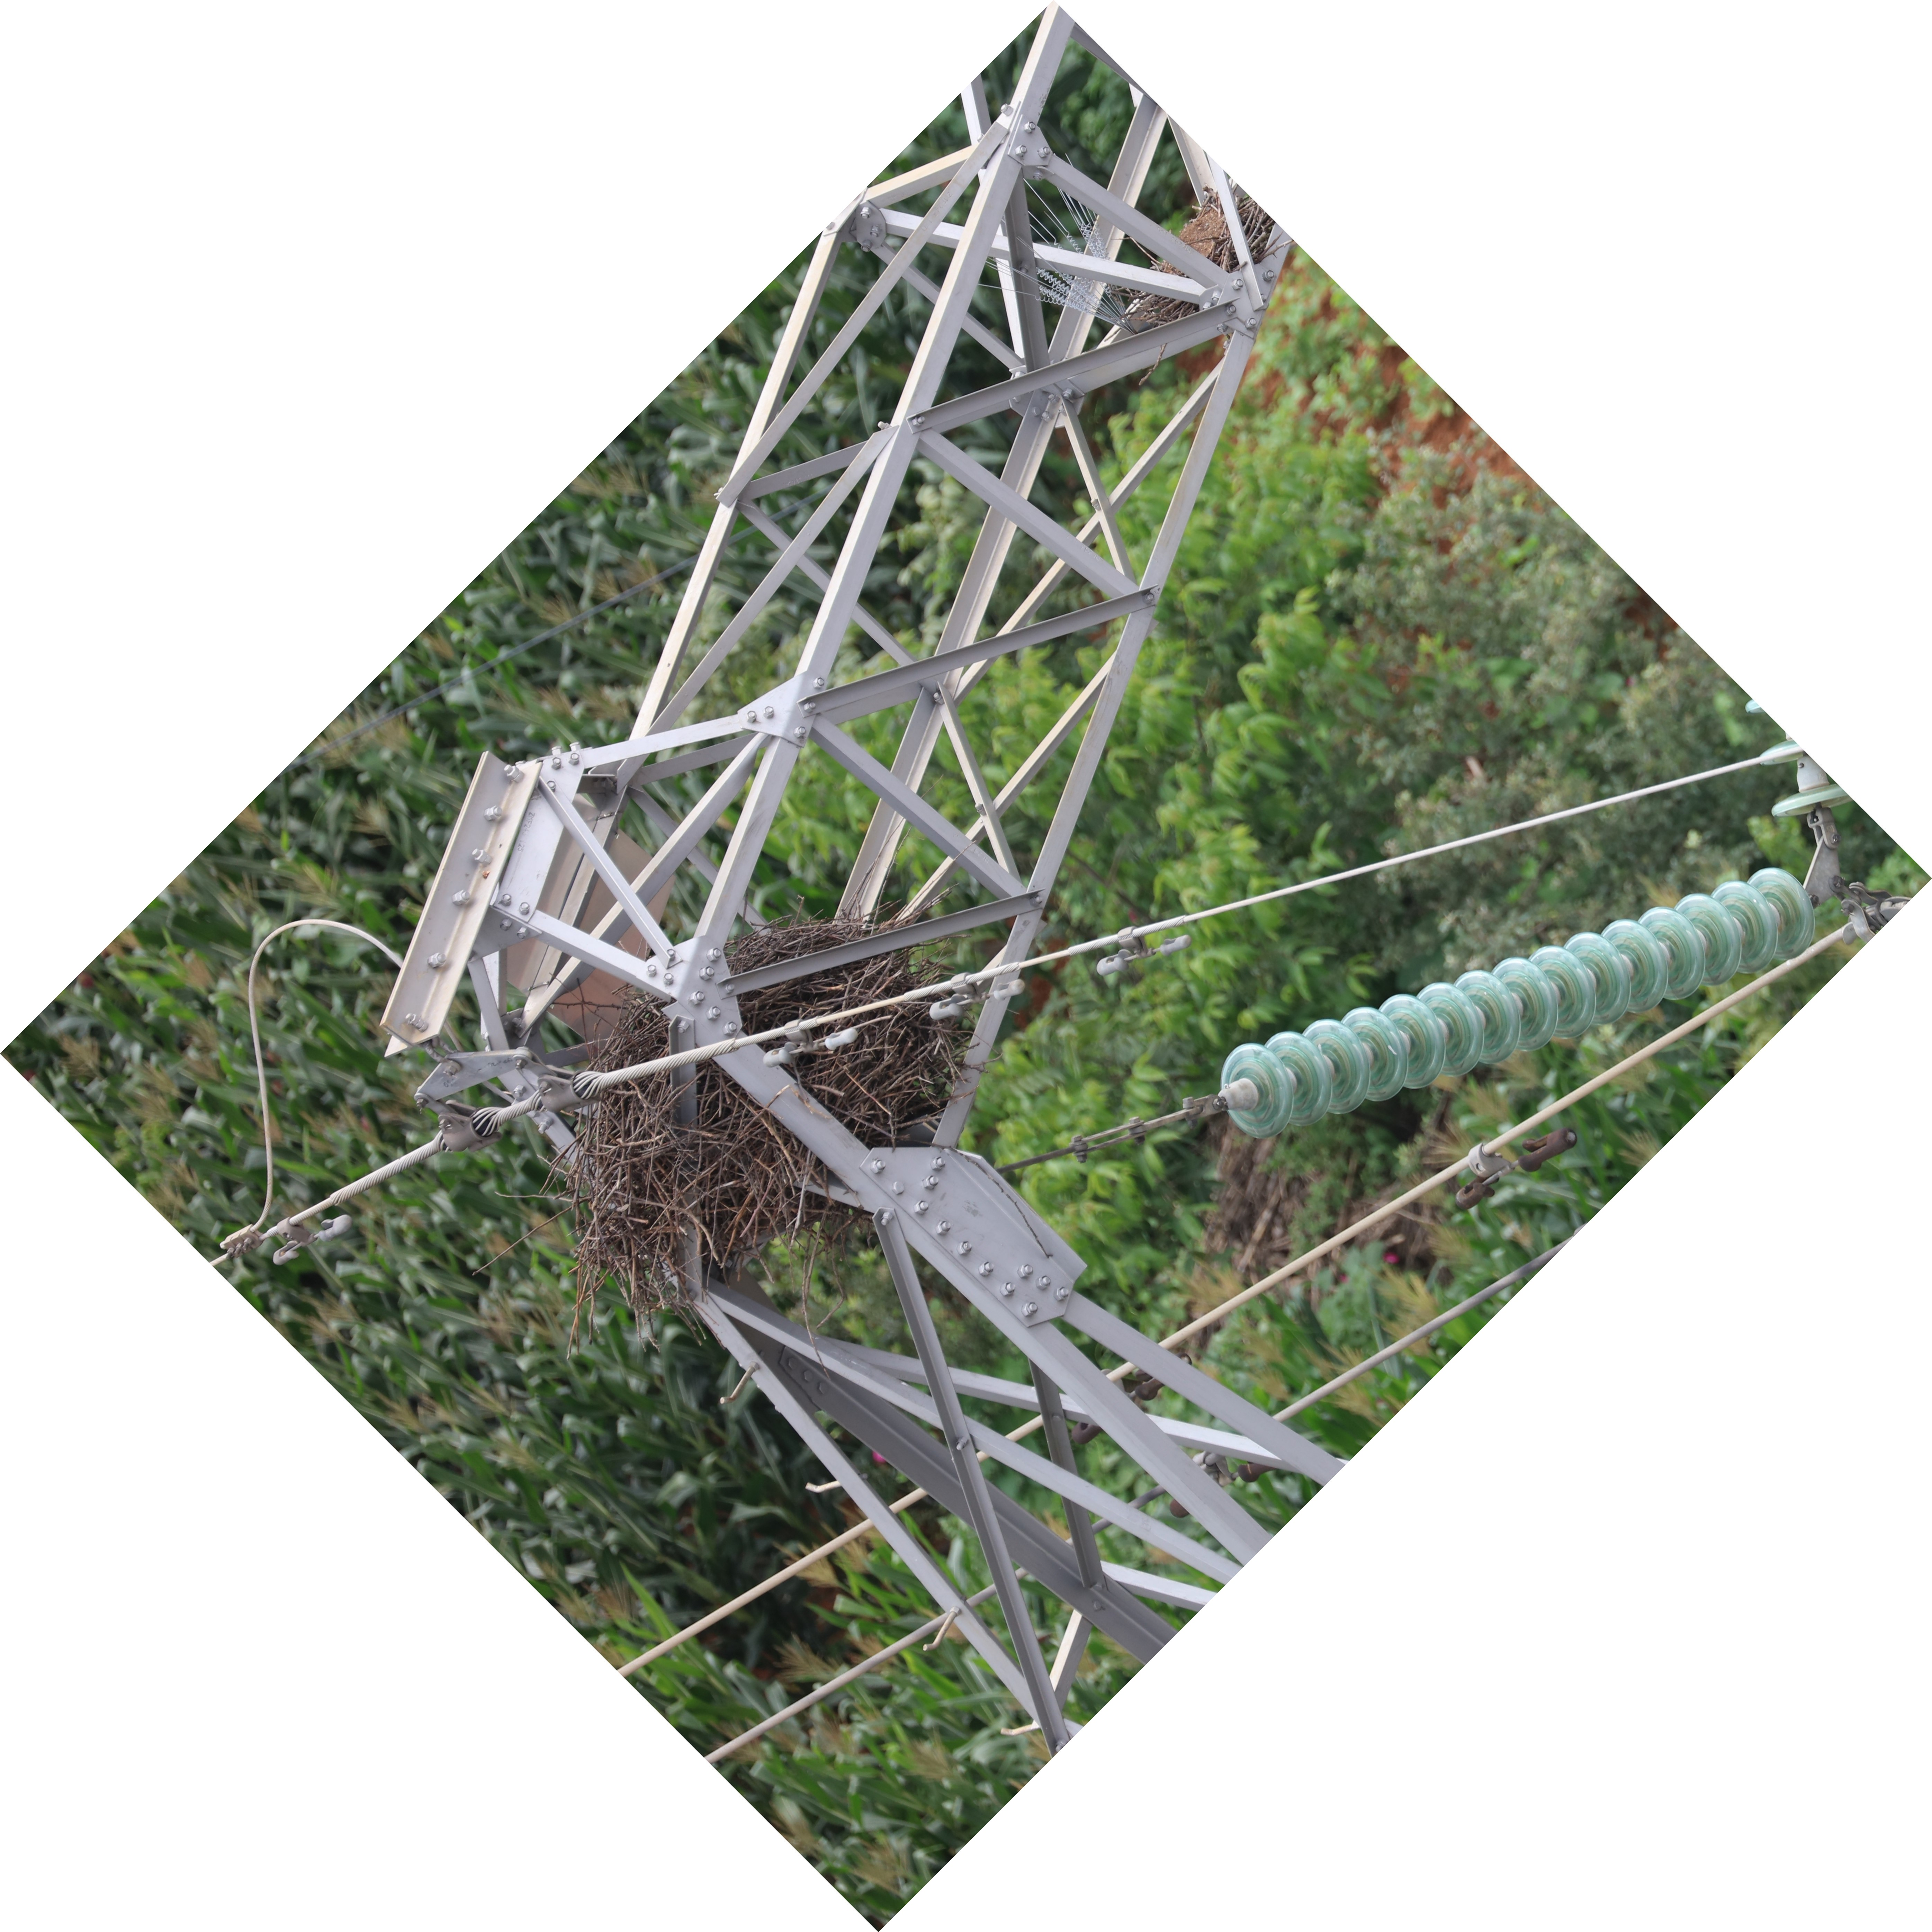niaowo: (511, 902, 978, 1306)
